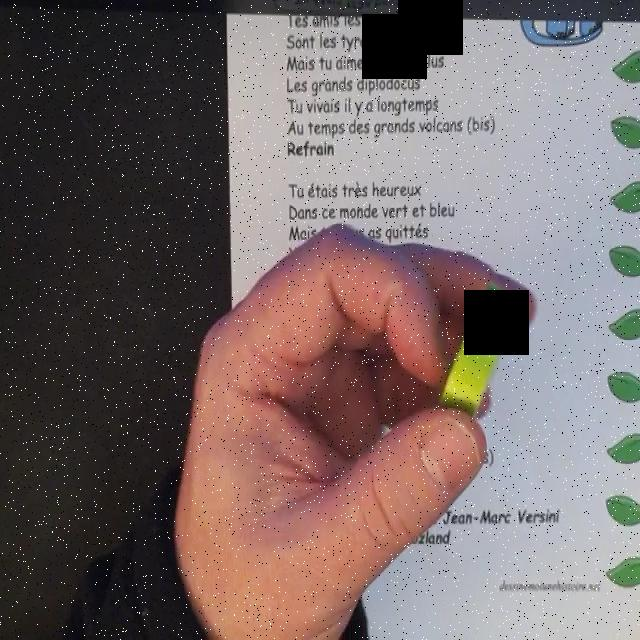round: (438, 281, 518, 425)
